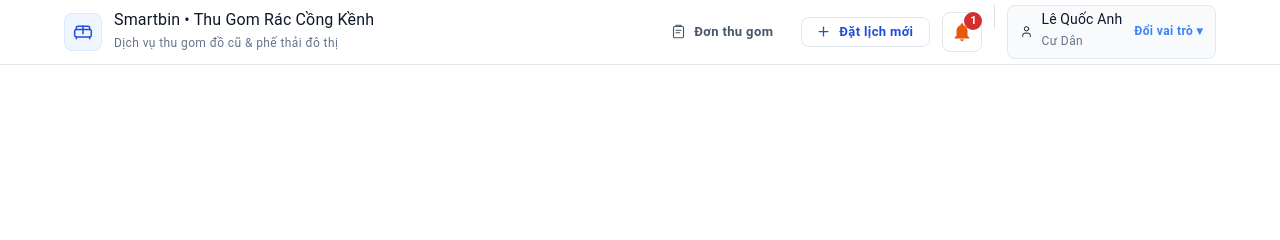
Scenario: BulkyHeader › opens notification menu on bell click and displays role-specific notifications
This screenshot has width=1280, height=240.
Click the button named "thông báo" at (962, 32), box 942,12 -> 982,52
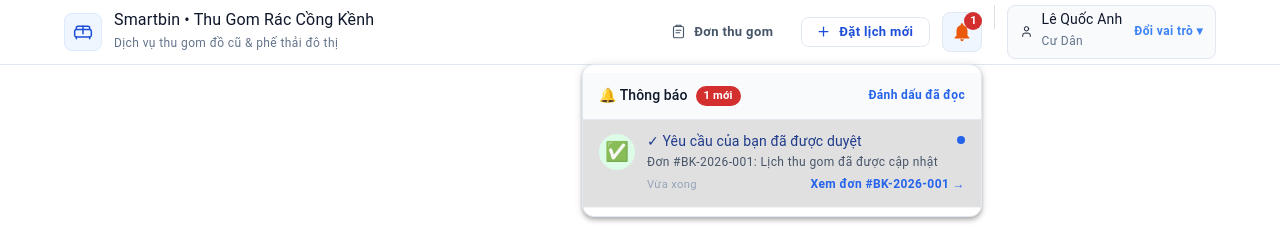
Expected: the heading "🔔 Thông báo" is shown, 599,85 -> 688,107
Expected: the text "✓ Yêu cầu của bạn đã được duyệt" is shown, 647,132 -> 862,150
